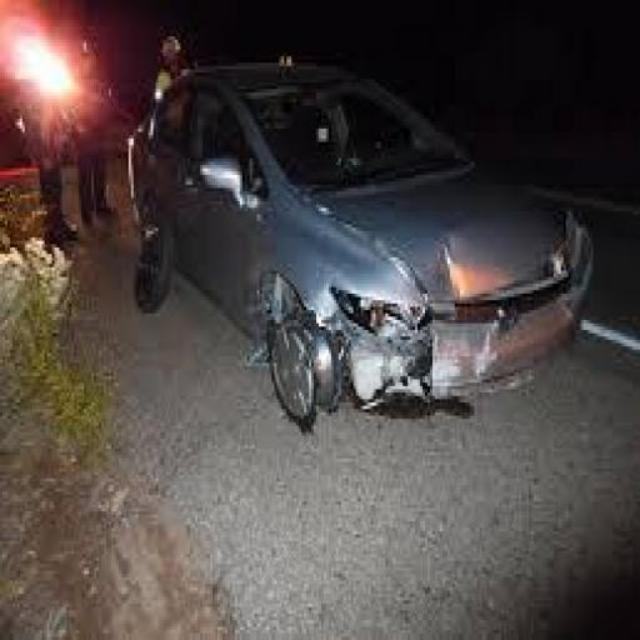dent: (421, 227, 524, 307)
dislocated part: (464, 267, 583, 329)
lamp broken: (333, 285, 434, 339)
no part: (319, 315, 434, 402)
